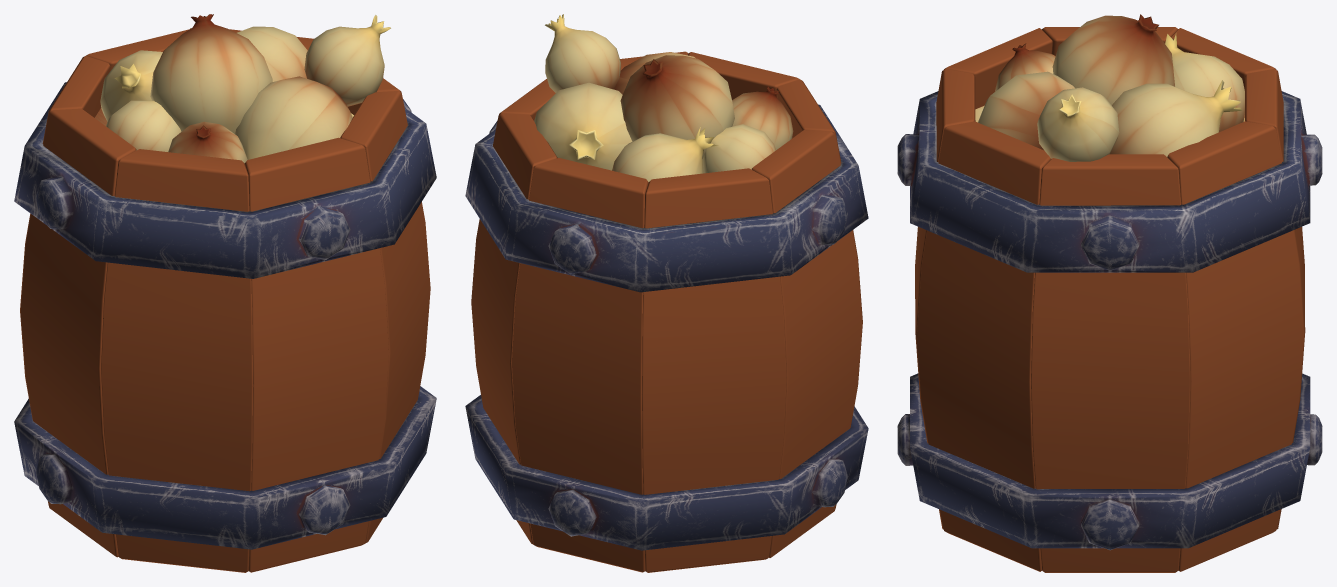
File: onio_barrel.fbx
The picture shows the model from 3 angles, left to right: view 1: azimuth 30°, elevation 25°; view 2: azimuth 150°, elevation 25°; view 3: azimuth 270°, elevation 25°; orthographic projection. The views are drawn at different scales.
Parts seen in each view (by area): view 1: l_plank.026, l_hoop.001, onio.006, onio.002, onio.007, onio.005, onio.003, onio.001, onio.004; view 2: l_plank.026, l_hoop.001, onio.006, onio.001, onio.007, onio.003, onio.005, onio.004, onio.002; view 3: l_plank.026, l_hoop.001, onio.006, onio.001, onio.007, onio.002, onio.003, onio.004.
Boxes of the visible parts, bbox=[...] form: l_plank.026: bbox=[20, 29, 430, 572]; l_hoop.001: bbox=[14, 82, 436, 549]; onio.006: bbox=[150, 14, 272, 133]; onio.002: bbox=[235, 76, 352, 159]; onio.007: bbox=[304, 15, 390, 106]; onio.005: bbox=[106, 100, 181, 151]; onio.003: bbox=[100, 50, 162, 121]; onio.001: bbox=[190, 26, 307, 81]; onio.004: bbox=[168, 121, 247, 163]; l_plank.026: bbox=[471, 51, 862, 572]; l_hoop.001: bbox=[465, 104, 868, 550]; onio.006: bbox=[620, 55, 734, 158]; onio.001: bbox=[534, 82, 632, 170]; onio.007: bbox=[545, 14, 620, 92]; onio.003: bbox=[612, 127, 718, 181]; onio.005: bbox=[702, 124, 775, 173]; onio.004: bbox=[732, 86, 793, 149]; onio.002: bbox=[614, 52, 695, 94]; l_plank.026: bbox=[915, 27, 1305, 572]; l_hoop.001: bbox=[897, 91, 1322, 550]; onio.006: bbox=[1052, 14, 1174, 105]; onio.001: bbox=[1110, 80, 1241, 156]; onio.007: bbox=[1037, 87, 1119, 161]; onio.002: bbox=[978, 71, 1074, 150]; onio.003: bbox=[1165, 33, 1244, 132]; onio.004: bbox=[995, 43, 1055, 91].
Size of the model in its own units: 562 by 707 by 562.
